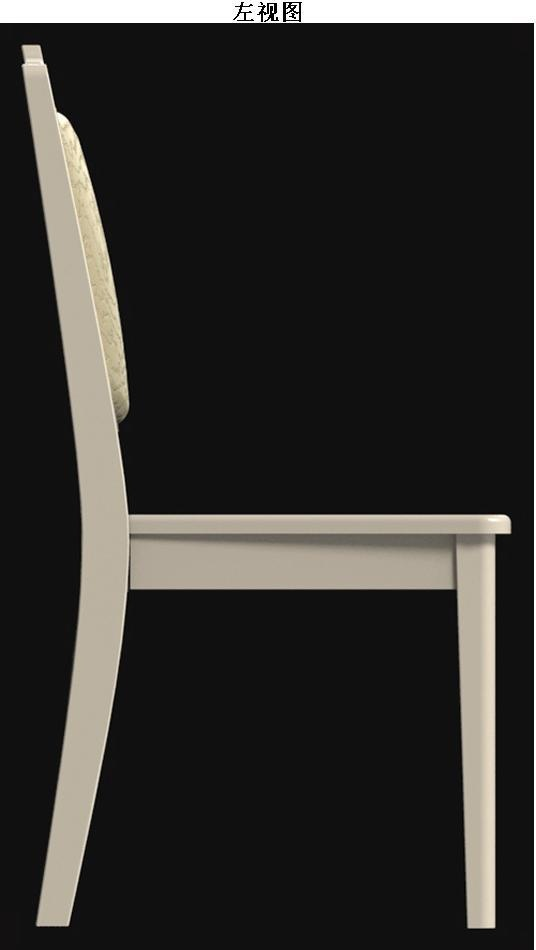obstacle: (23, 45, 510, 928)
